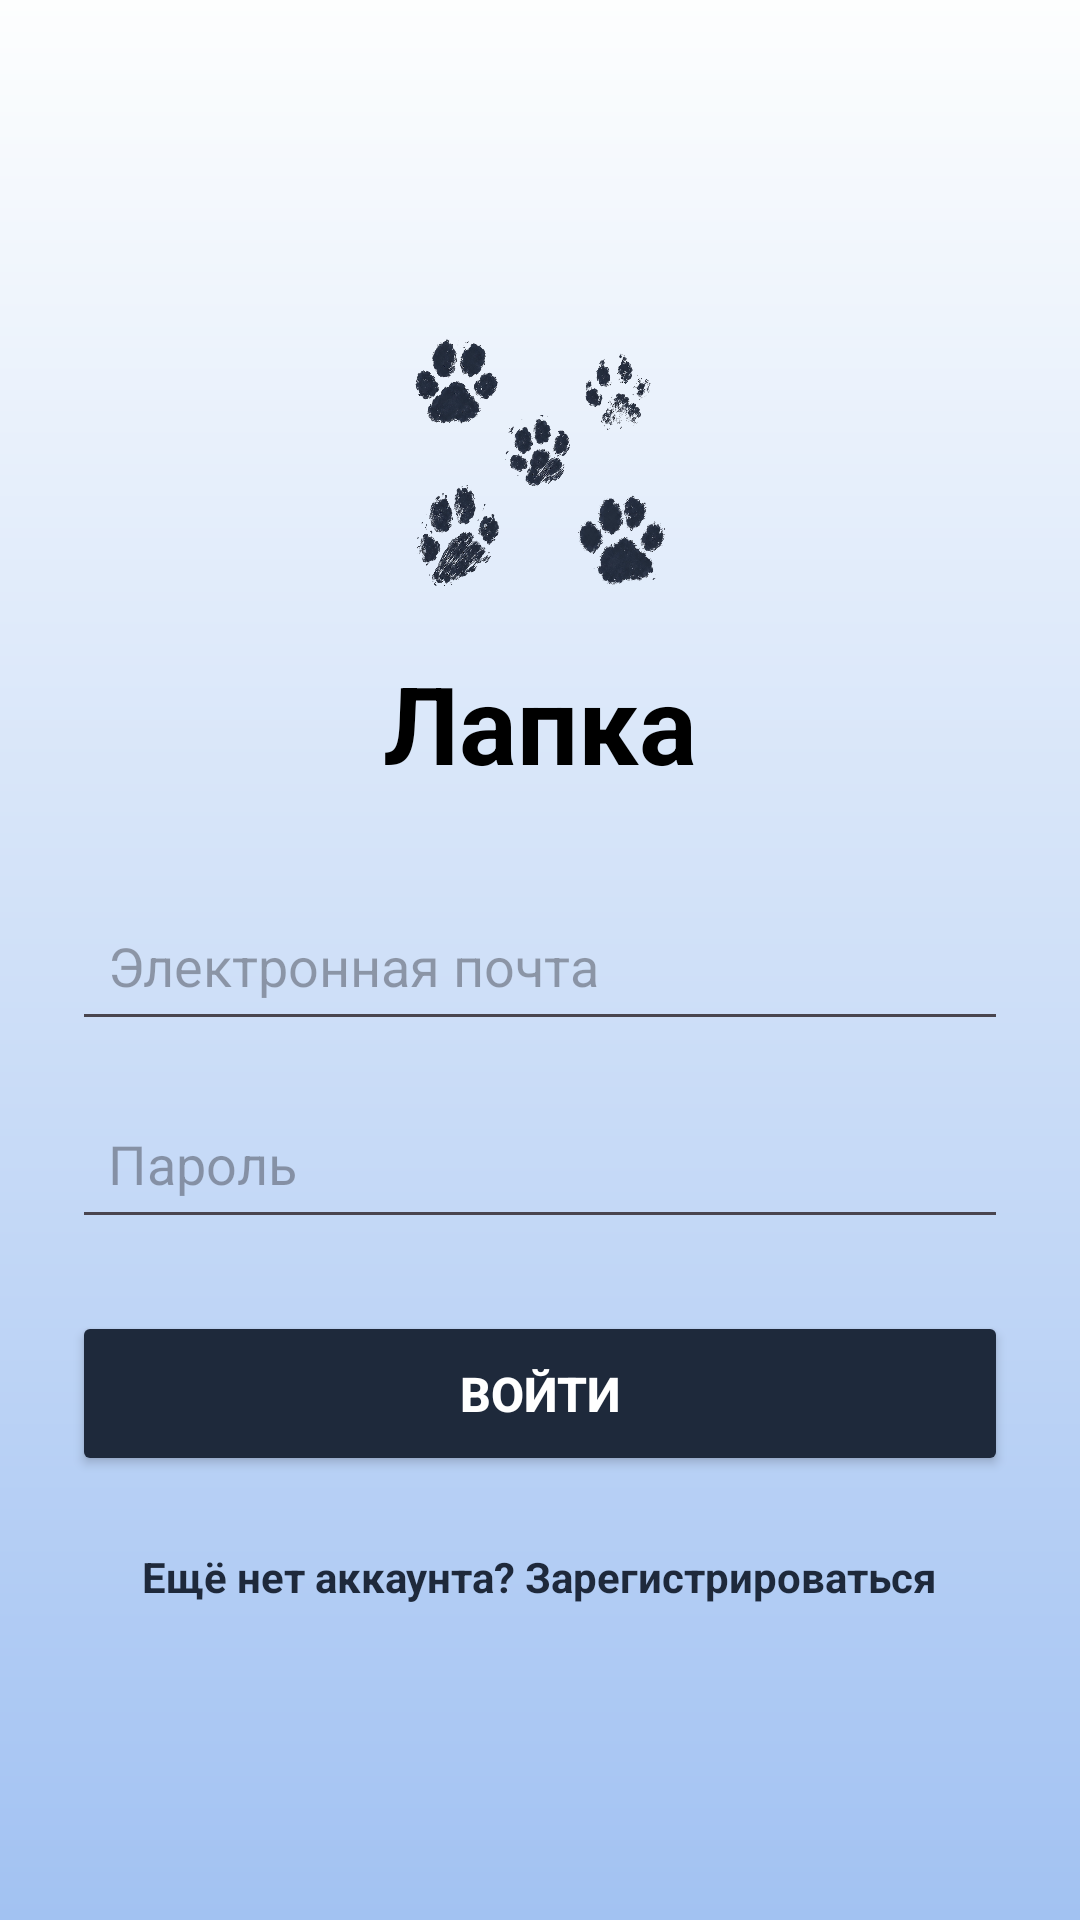

Screen size 1080 × 1920. Icon name, then its center in pixels as (x,y):
lapki: (540,462)
